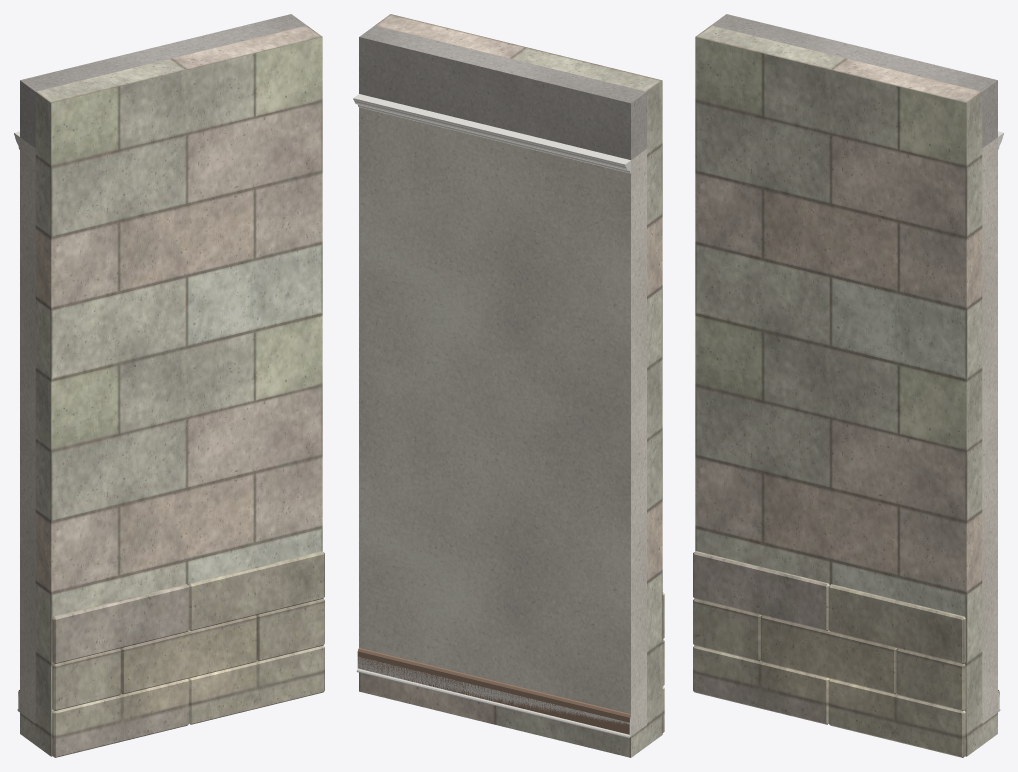
File: w_plain.glb
3 renders of one model, left to right at view 1: azimuth 30°, elevation 25°; view 2: azimuth 150°, elevation 25°; view 3: azimuth 330°, elevation 25°, orthographic.
Visible parts, largest first — view 1: w_plain_stone, w_plain_stone_r, w_plain_plaster, w_plain_concrete; view 2: w_plain_plaster, w_plain_concrete, w_plain_stone, molduras, w_plain_base; view 3: w_plain_stone, w_plain_stone_r, w_plain_plaster, w_plain_concrete.
Boxes of the visible parts, x1=… form: w_plain_stone: x1=20, y1=25, x2=322, y2=756; w_plain_stone_r: x1=52, y1=551, x2=324, y2=757; w_plain_plaster: x1=20, y1=137, x2=35, y2=723; w_plain_concrete: x1=20, y1=14, x2=306, y2=148; w_plain_plaster: x1=359, y1=107, x2=646, y2=736; w_plain_concrete: x1=359, y1=25, x2=646, y2=159; w_plain_stone: x1=359, y1=14, x2=662, y2=757; molduras: x1=353, y1=94, x2=630, y2=738; w_plain_base: x1=357, y1=648, x2=630, y2=734; w_plain_stone: x1=695, y1=25, x2=997, y2=756; w_plain_stone_r: x1=693, y1=551, x2=965, y2=757; w_plain_plaster: x1=982, y1=137, x2=997, y2=723; w_plain_concrete: x1=711, y1=14, x2=997, y2=148.
Size of the model in its own units: 2 by 4.6 by 0.515.
Materials: 6 (4 with a texture image).
